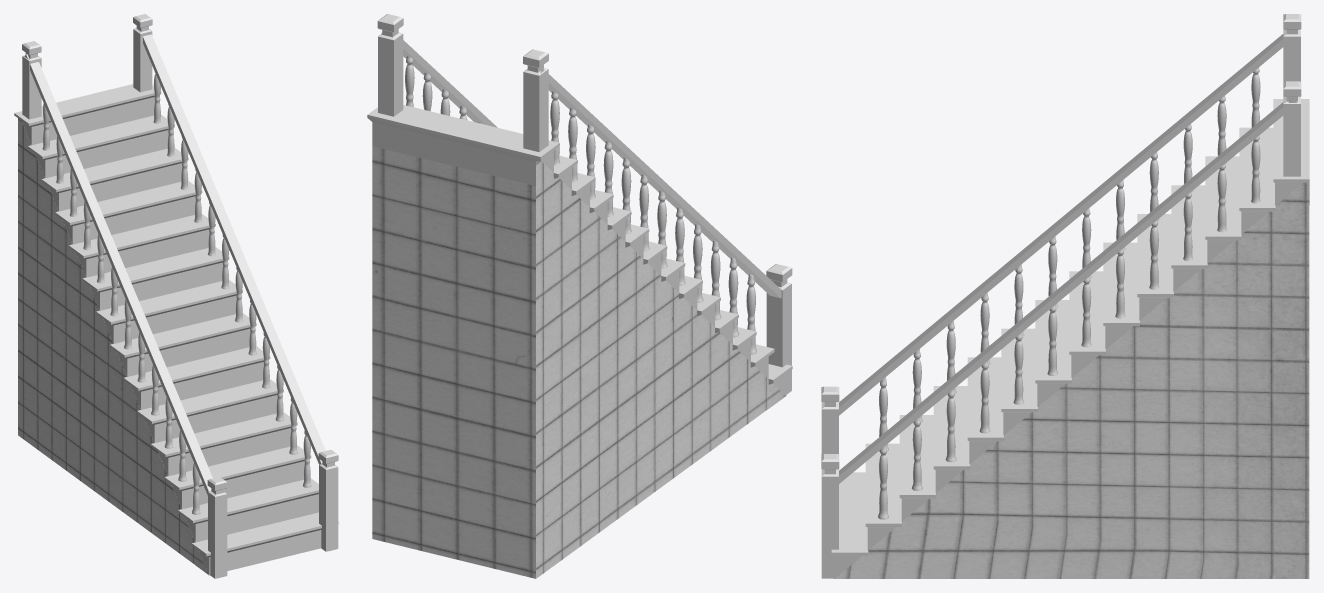
The model's file is den_stairs_full_extended_14.fbx.
3 views of the same model, side by side, from view 1: azimuth 30°, elevation 25°; view 2: azimuth 150°, elevation 25°; view 3: azimuth 270°, elevation 25° (orthographic). The views are drawn at different scales.
Parts seen in each view (by area): view 1: Cube.018, Cube, Cube.021, Cube.020, Cube.019, Cube.001; view 2: Cube, Cube.018, Cube.020, Cube.021, Cube.001, Cube.019; view 3: Cube, Cube.018, Cube.021, Cube.020, Cube.019, Cube.001.
Boxes of the visible parts, x1,y1,x2,y2 form: Cube.018: (14, 84, 338, 575); Cube: (18, 118, 208, 574); Cube.021: (24, 28, 325, 495); Cube.020: (42, 74, 311, 514); Cube.019: (207, 450, 338, 578); Cube.001: (22, 14, 152, 119); Cube: (372, 146, 785, 578); Cube.018: (367, 105, 792, 408); Cube.020: (405, 56, 756, 354); Cube.021: (381, 31, 781, 298); Cube.001: (377, 14, 548, 151); Cube.019: (766, 264, 792, 394); Cube: (835, 182, 1309, 578); Cube.018: (831, 99, 1309, 578); Cube.021: (839, 34, 1296, 483); Cube.020: (878, 67, 1260, 519); Cube.019: (821, 386, 839, 578); Cube.001: (1283, 14, 1301, 176).
Size of the model in its own units: 211 by 603 by 544.
